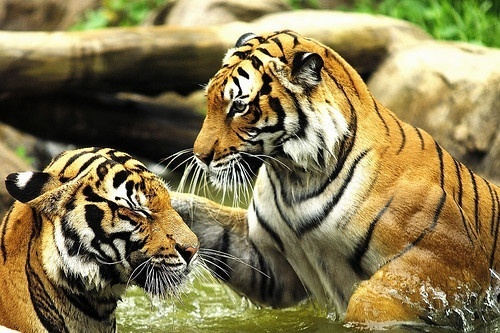tigre: (184, 29, 499, 329), (1, 144, 202, 330)
